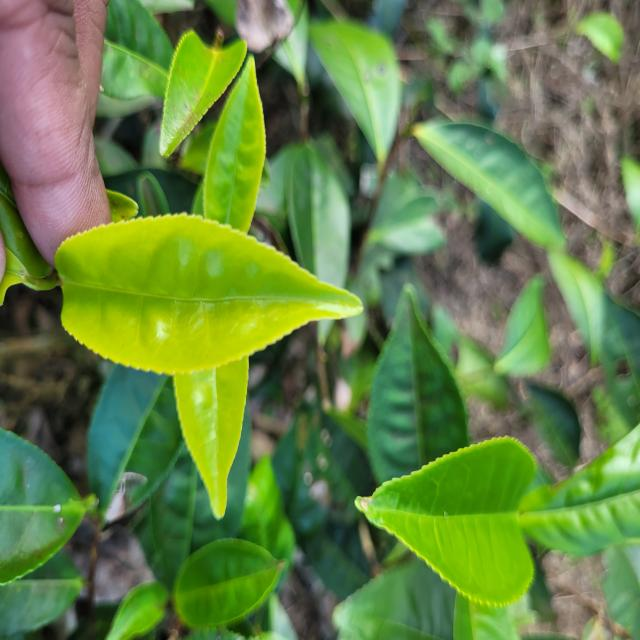Category B 2-4 days: (34, 196, 368, 380)
